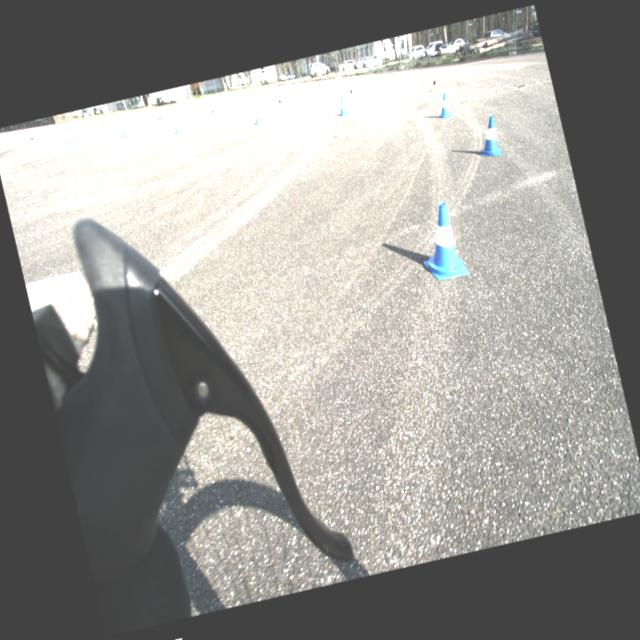blue_cone: (411, 200, 470, 283), (472, 115, 502, 159), (434, 91, 454, 119), (336, 95, 348, 116), (251, 108, 263, 126), (170, 118, 182, 135), (118, 122, 128, 138), (60, 132, 70, 146)
yellow_cone: (428, 74, 441, 92), (28, 132, 38, 146), (347, 86, 356, 100), (275, 96, 284, 110), (100, 122, 108, 134), (210, 106, 217, 118), (156, 113, 163, 125)
